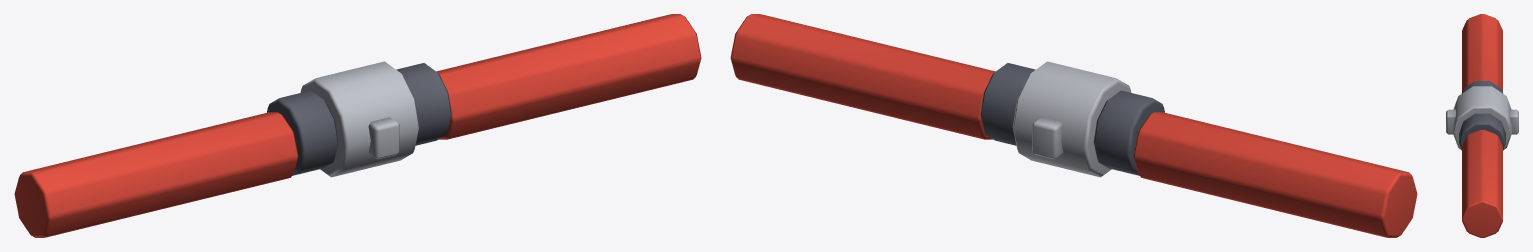
File: hose_coupling.glb
The picture shows the model from 3 angles, left to right: view 1: azimuth 30°, elevation 25°; view 2: azimuth 150°, elevation 25°; view 3: azimuth 270°, elevation 25°; orthographic projection. The views are drawn at different scales.
Parts seen in each view (by area): view 1: Body; view 2: Body; view 3: Body.
Part boxes in pixels (x1,y1,x2,y2): Body: (14,14,701,237); Body: (730,14,1417,237); Body: (1446,14,1518,237).
Size of the model in its own units: 1.04 by 0.1331 by 0.17.
1 material, 1 textured.
